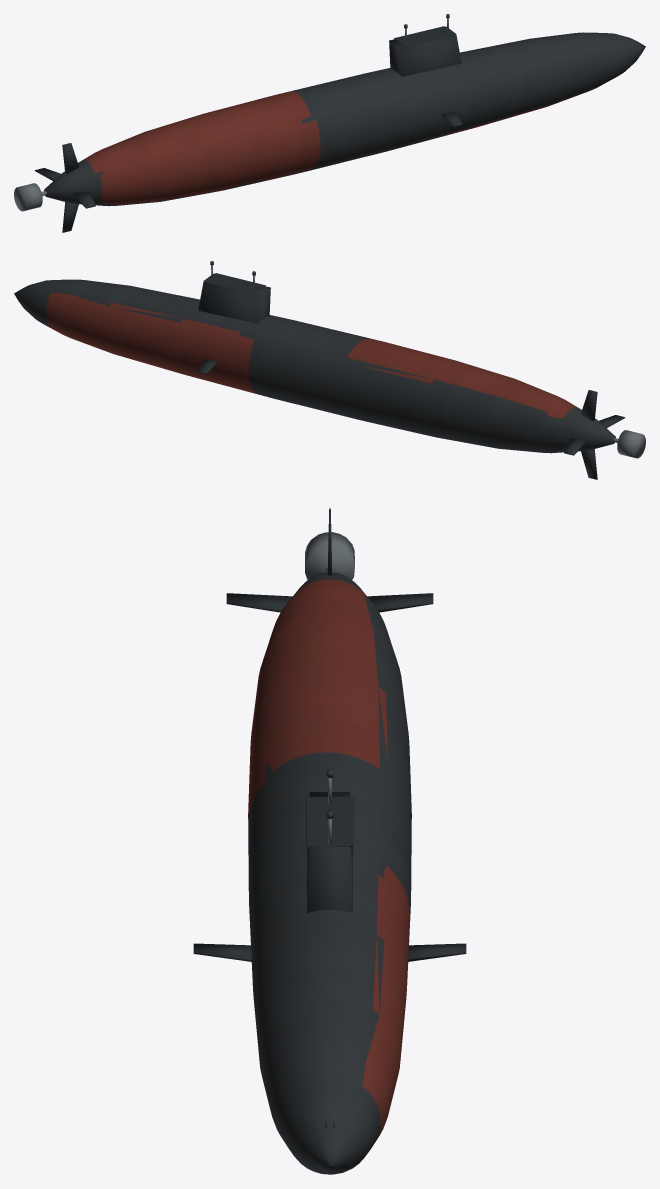
Rendered from CN_SSN_Type095_LOD2.fbx.
The picture shows the model from 3 angles, top to bottom: view 1: azimuth 30°, elevation 25°; view 2: azimuth 150°, elevation 25°; view 3: azimuth 270°, elevation 25°; orthographic projection. The views are drawn at different scales.
Visible parts, largest first — view 1: CN_SSN_Type095_LOD2; view 2: CN_SSN_Type095_LOD2; view 3: CN_SSN_Type095_LOD2.
Part boxes in pixels (x1,y1,x2,y2): CN_SSN_Type095_LOD2: (14,14,645,232); CN_SSN_Type095_LOD2: (14,261,645,479); CN_SSN_Type095_LOD2: (193,508,466,1174).
Bounding box in the file's own units: 115 × 21.65 × 21.71.
6 materials, 1 textured.
